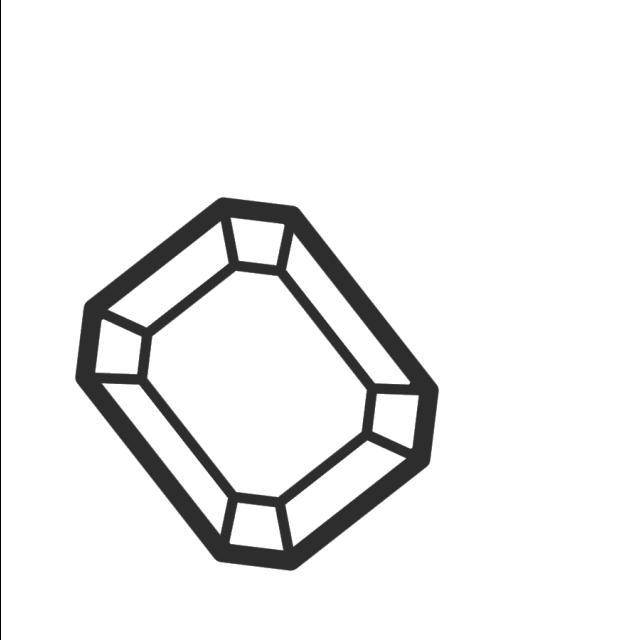emerald: (65, 190, 449, 578)
